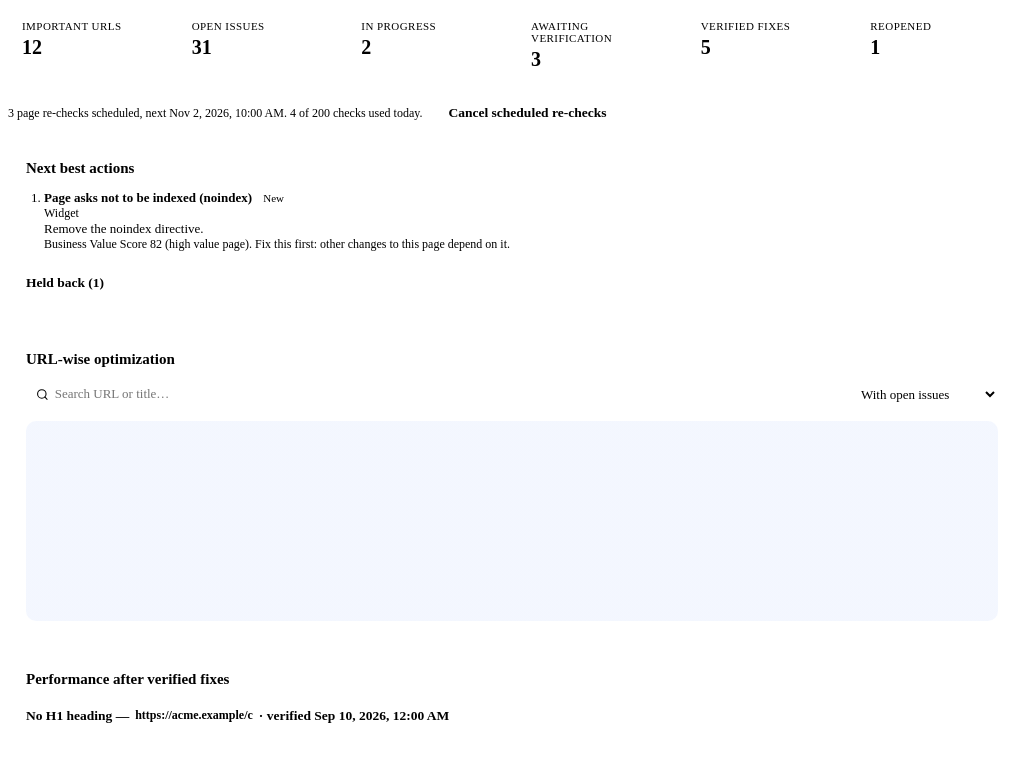
Test: content › verified-fix performance is labelled as observed, not caused
Step 1. Click the heading "No H1 heading" → (238, 715), box [26,708,449,723]
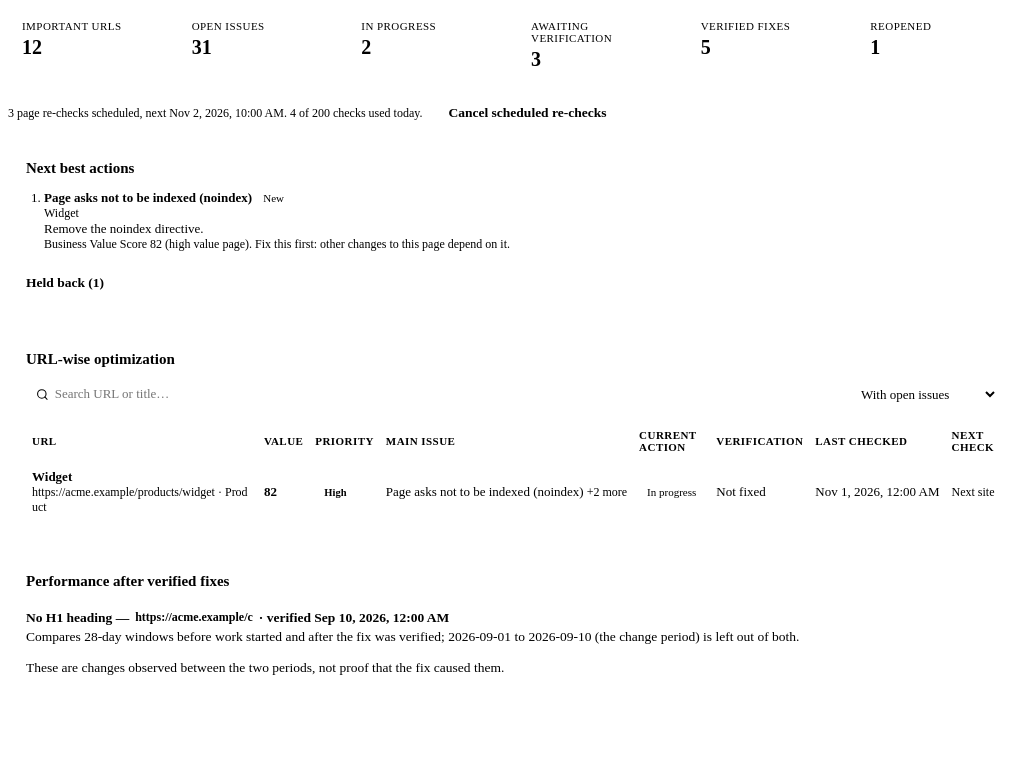
Result: the text "not proof that the fix caused them" is shown at [26,660,504,675]
Result: the text "left out of both" is shown at [591,629,800,644]
